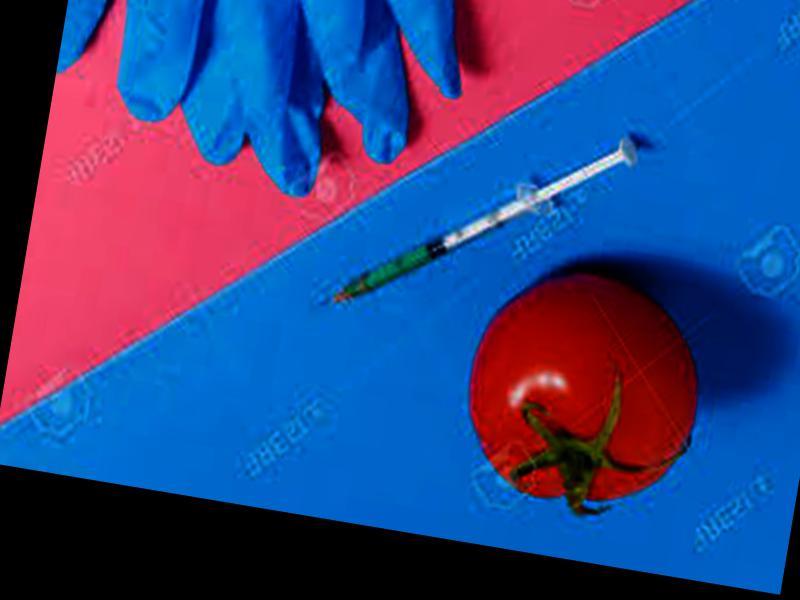Tomato: (453, 253, 712, 516)
